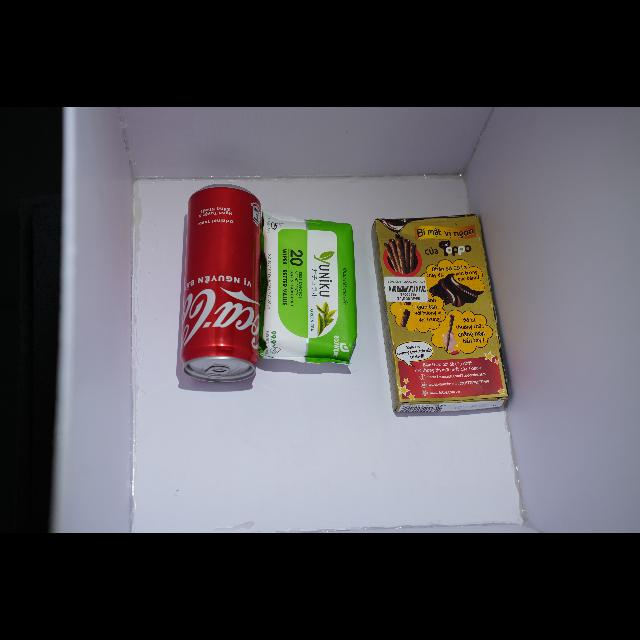banh_toppo_socola: (373, 215, 508, 412)
coca_cola: (181, 184, 262, 383)
khan_giay: (260, 212, 357, 364)
